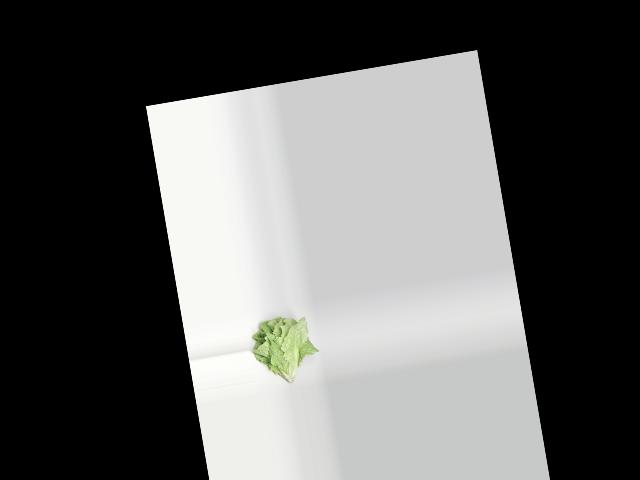lettuce: (243, 308, 322, 393)
